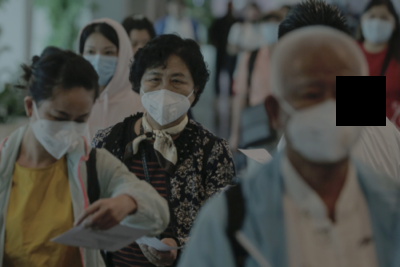with_mask: (280, 77, 366, 165), (31, 109, 93, 161), (140, 70, 195, 128), (83, 43, 119, 86), (360, 10, 394, 46)
